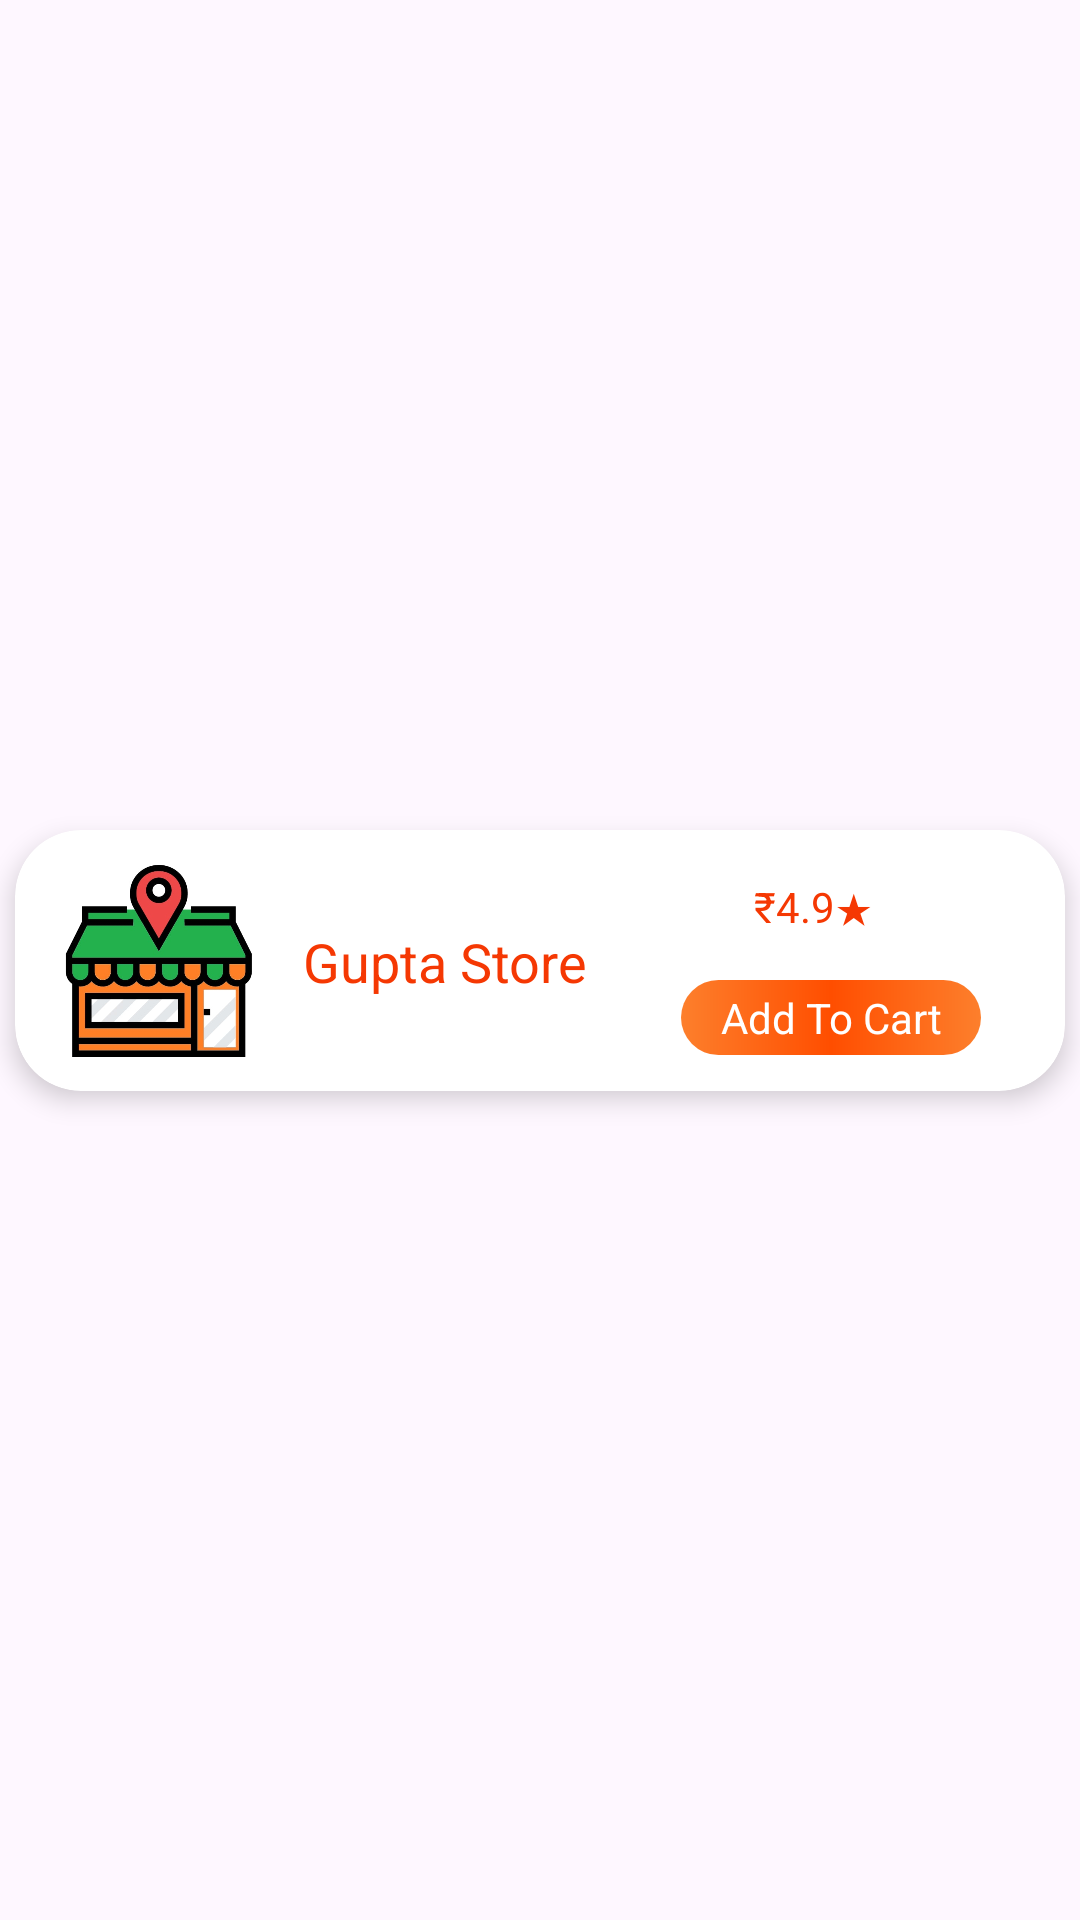

Where to tap for icons on this 1080x1920 app screen, as point (x, y):
shop: point (159, 961)
